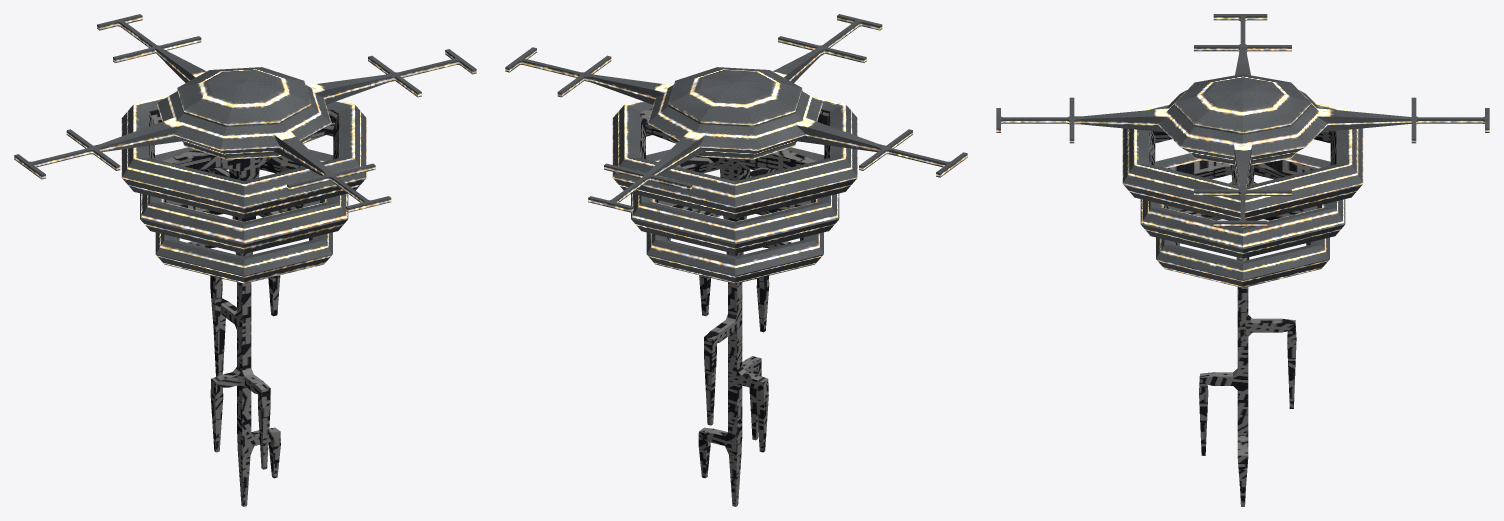
The model's file is Station-01.fbx.
The picture shows the model from 3 angles, left to right: view 1: azimuth 30°, elevation 25°; view 2: azimuth 150°, elevation 25°; view 3: azimuth 270°, elevation 25°; orthographic projection.
Visible parts, largest first — view 1: Sphere.002; view 2: Sphere.002; view 3: Sphere.002.
Part boxes in pixels (x1,y1,x2,y2): Sphere.002: [14, 14, 476, 506]; Sphere.002: [505, 14, 967, 506]; Sphere.002: [996, 14, 1489, 506].
Size of the model in its own units: 1010 by 940 by 1010.
